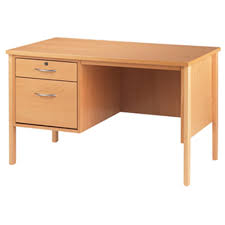desk: (3, 25, 224, 193)
